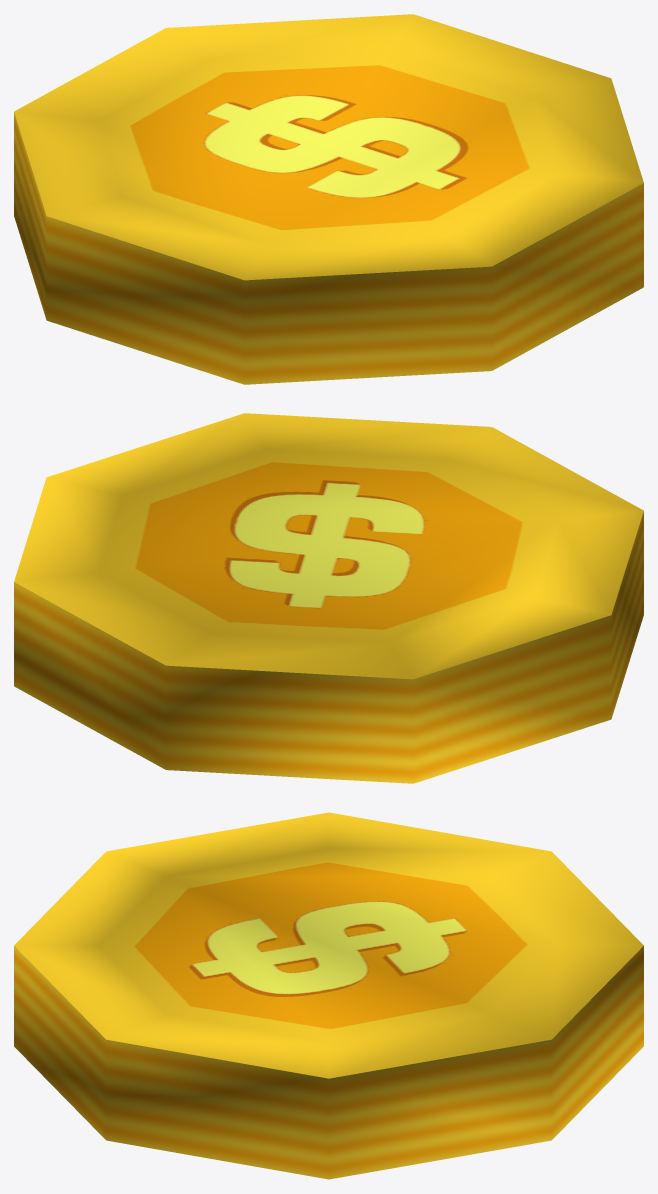
File: CoinV06.fbx
3 renders of one model, top to bottom at view 1: azimuth 30°, elevation 25°; view 2: azimuth 150°, elevation 25°; view 3: azimuth 270°, elevation 25°, orthographic. The views are drawn at different scales.
Visible parts, largest first — view 1: Cylinder; view 2: Cylinder; view 3: Cylinder.
Part boxes in pixels (x1=…): Cylinder: x1=14, y1=14, x2=643, y2=384; Cylinder: x1=14, y1=413, x2=643, y2=783; Cylinder: x1=14, y1=812, x2=643, y2=1179.
Bounding box in the file's own units: 40.55 × 7.16 × 40.55.
